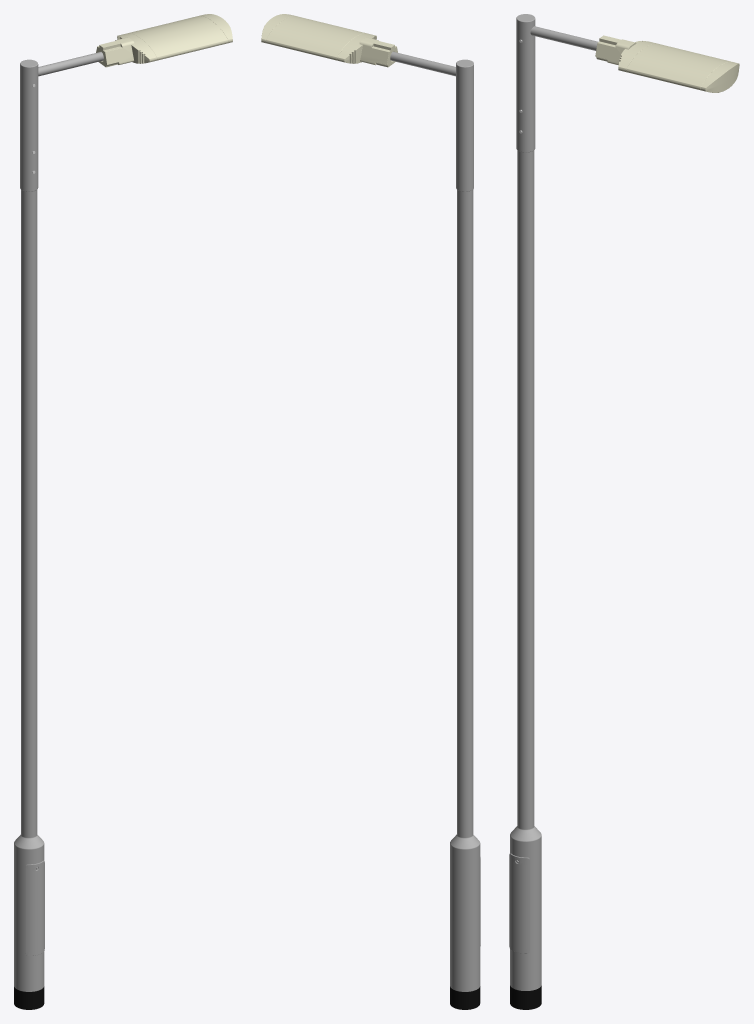
File: street-lights1.fbx
The picture shows the model from 3 angles, left to right: view 1: azimuth 30°, elevation 25°; view 2: azimuth 150°, elevation 25°; view 3: azimuth 330°, elevation 25°; orthographic projection. The views are drawn at different scales.
Parts seen in each view (by area): view 1: 6M_Lamppost_Pole|6M_LampPost|Dupli|, LampTop_02|LampTop02|Dupli|, LampTop_02|Lamp02_Cntr|Dupli|1, 6M_Lamppost_Pole|MaintenanceCover|Dupli|1, LampTop_02|Lamp02_Main|Dupli|5; view 2: 6M_Lamppost_Pole|6M_LampPost|Dupli|, LampTop_02|LampTop02|Dupli|, LampTop_02|Lamp02_Cntr|Dupli|1, LampTop_02|Lamp02_Main|Dupli|5; view 3: 6M_Lamppost_Pole|6M_LampPost|Dupli|, LampTop_02|LampTop02|Dupli|, LampTop_02|Lamp02_Cntr|Dupli|1, 6M_Lamppost_Pole|MaintenanceCover|Dupli|1, LampTop_02|Lamp02_Main|Dupli|5.
Boxes of the visible parts, left/top/right/bottom form: 6M_Lamppost_Pole|6M_LampPost|Dupli|: left=14, top=190, right=44, bottom=1009; LampTop_02|LampTop02|Dupli|: left=20, top=52, right=103, bottom=191; LampTop_02|Lamp02_Cntr|Dupli|1: left=128, top=16, right=228, bottom=60; 6M_Lamppost_Pole|MaintenanceCover|Dupli|1: left=25, top=860, right=44, bottom=955; LampTop_02|Lamp02_Main|Dupli|5: left=96, top=14, right=232, bottom=67; 6M_Lamppost_Pole|6M_LampPost|Dupli|: left=450, top=190, right=480, bottom=1009; LampTop_02|LampTop02|Dupli|: left=390, top=51, right=473, bottom=191; LampTop_02|Lamp02_Cntr|Dupli|1: left=265, top=16, right=365, bottom=60; LampTop_02|Lamp02_Main|Dupli|5: left=261, top=14, right=397, bottom=67; 6M_Lamppost_Pole|6M_LampPost|Dupli|: left=510, top=150, right=541, bottom=1009; LampTop_02|LampTop02|Dupli|: left=516, top=14, right=598, bottom=152; LampTop_02|Lamp02_Cntr|Dupli|1: left=626, top=43, right=731, bottom=90; 6M_Lamppost_Pole|MaintenanceCover|Dupli|1: left=509, top=853, right=529, bottom=953; LampTop_02|Lamp02_Main|Dupli|5: left=595, top=35, right=739, bottom=92.
Size of the model in its own units: 118 by 514 by 32.23.
